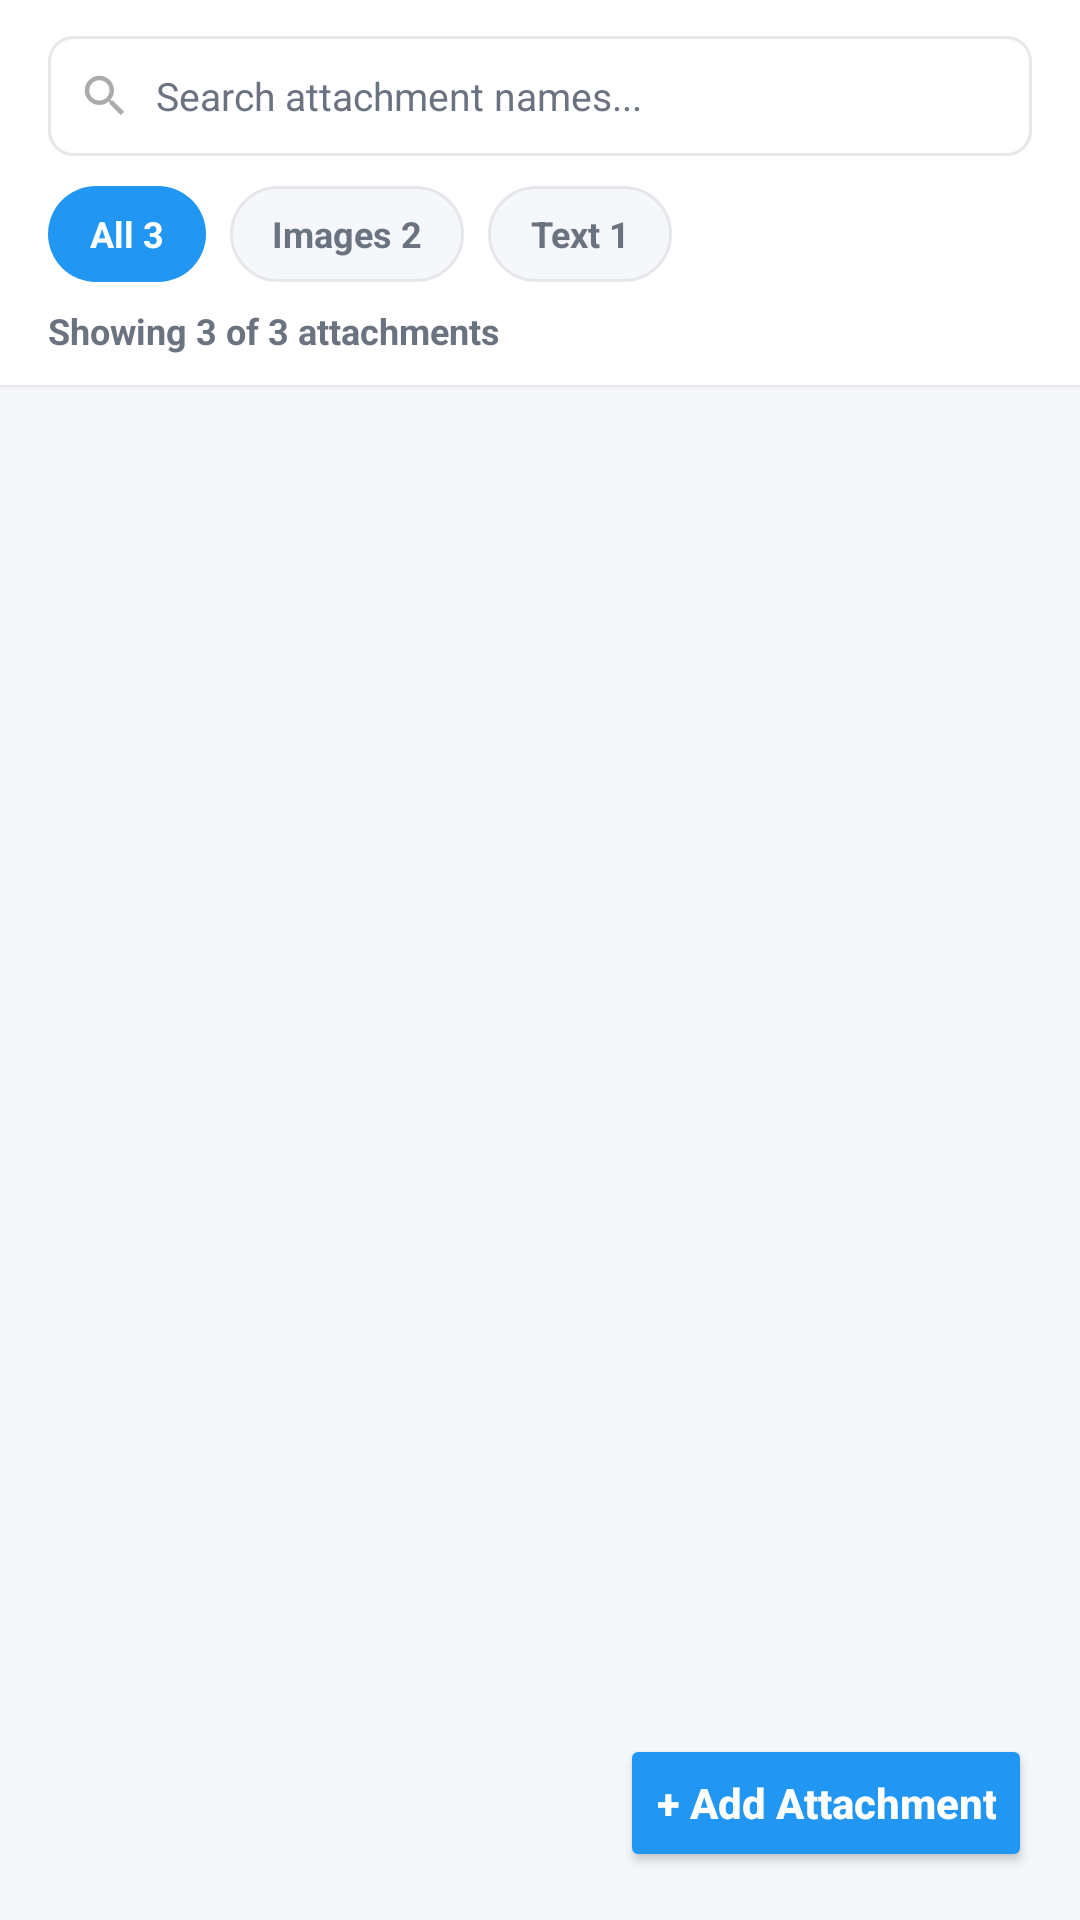

Icon click points for this 1080x1920 phone screenshot, format [x,y]:
Search attachments: [104,95]
